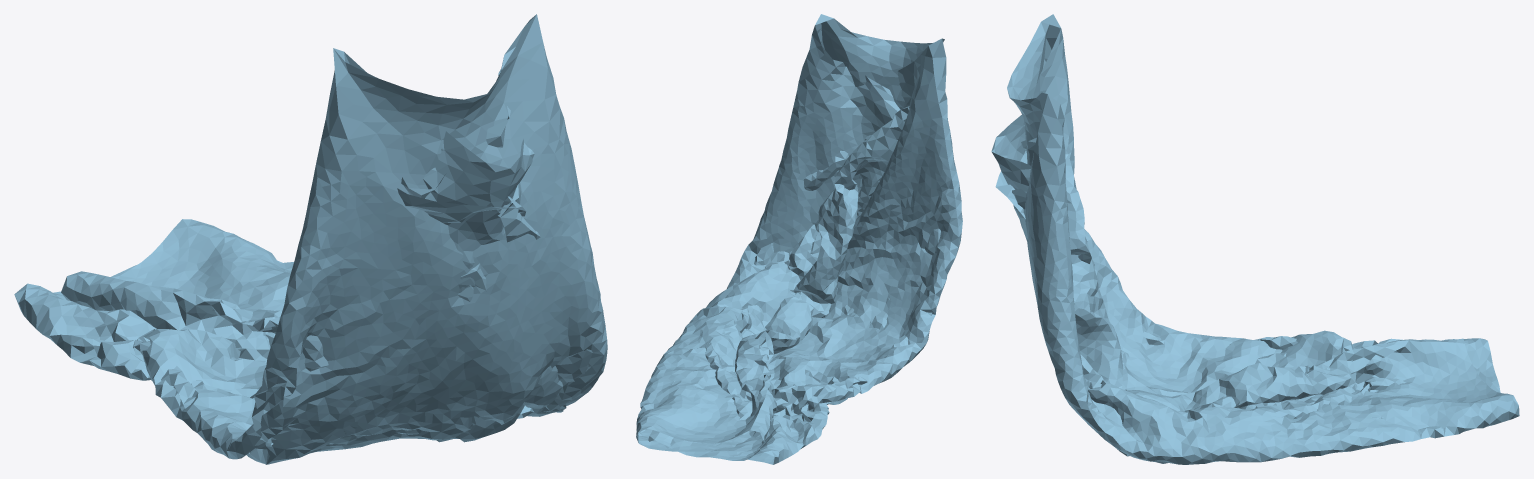
The model's file is frame_08.glb.
The picture shows the model from 3 angles, left to right: view 1: azimuth 30°, elevation 25°; view 2: azimuth 150°, elevation 25°; view 3: azimuth 270°, elevation 25°; orthographic projection. The views are drawn at different scales.
Visible parts, largest first — view 1: frame_08.obj; view 2: frame_08.obj; view 3: frame_08.obj.
Boxes of the visible parts, <box> form: frame_08.obj: <box>14,14,607,464</box>; frame_08.obj: <box>636,14,962,464</box>; frame_08.obj: <box>991,14,1519,464</box>.
Size of the model in its own units: 0.8143 by 1.07 by 1.45.
